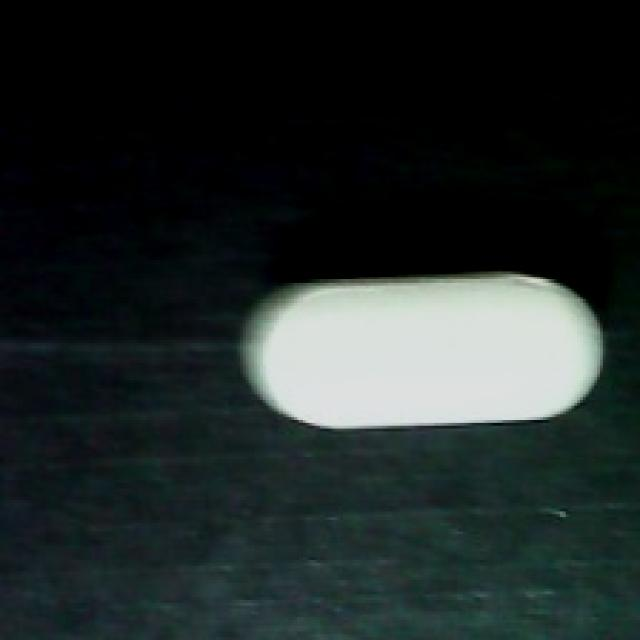no-defect: (237, 260, 606, 440)
